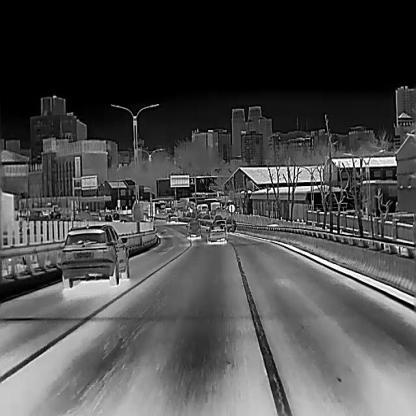car: (59, 224, 128, 289), (130, 201, 154, 223), (208, 224, 227, 242), (186, 220, 200, 237), (215, 220, 226, 232), (196, 203, 208, 213), (166, 214, 177, 222), (103, 213, 112, 222), (111, 211, 120, 220)
